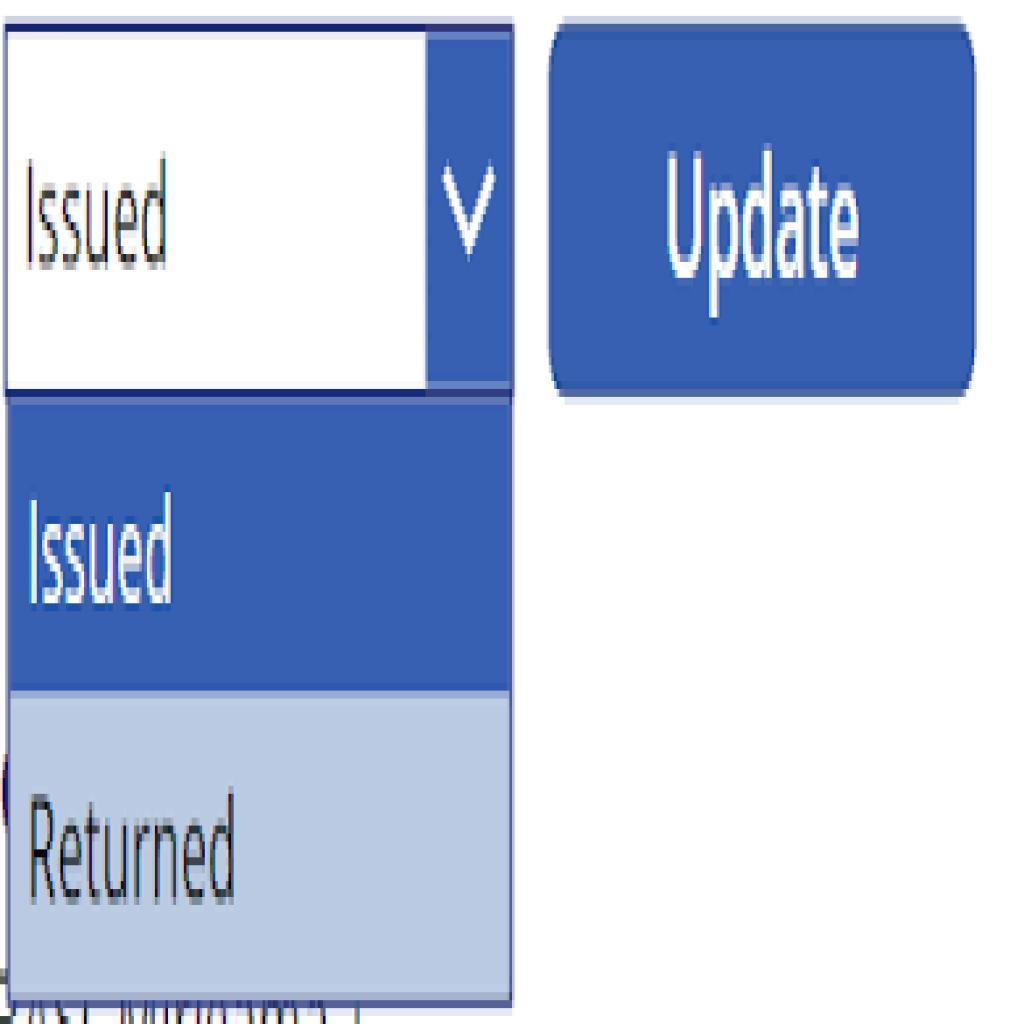button: (550, 21, 976, 399), (11, 696, 511, 1004), (11, 397, 509, 695)
dropdown: (3, 27, 518, 400)
